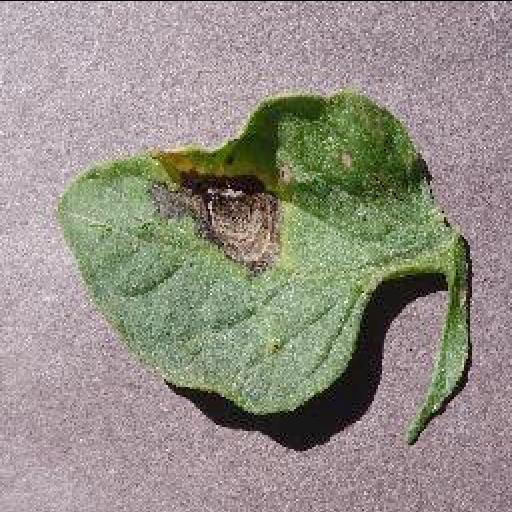disease_tomato: (53, 85, 451, 414)
